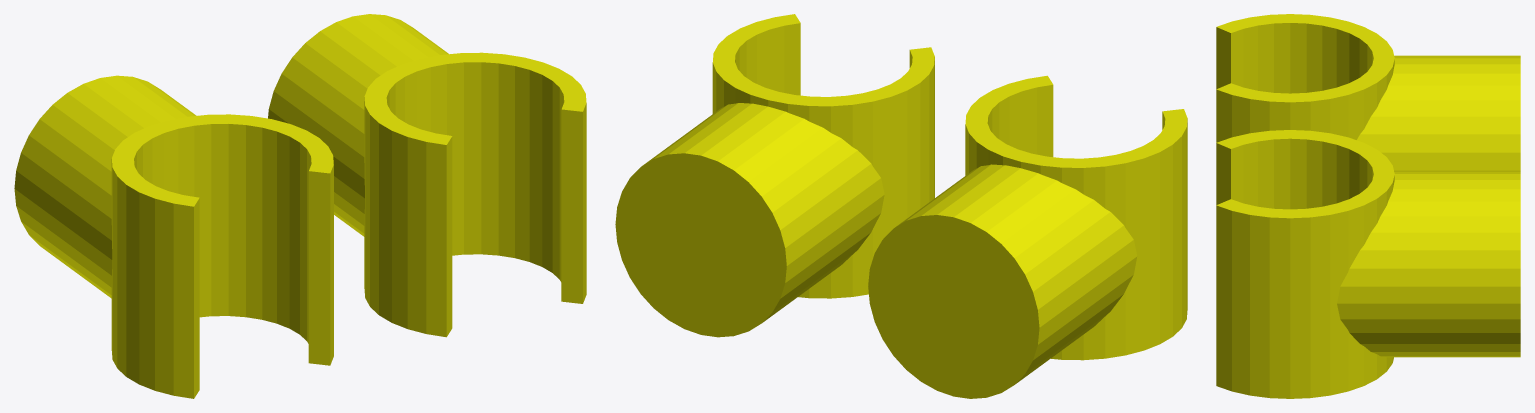
The model's file is LegoTestHands.fbx.
3 views of the same model, side by side, from view 1: azimuth 30°, elevation 25°; view 2: azimuth 150°, elevation 25°; view 3: azimuth 270°, elevation 25° (orthographic). The views are drawn at different scales.
Parts seen in each view (by area): view 1: RightHand, LeftHand; view 2: RightHand, LeftHand; view 3: LeftHand, RightHand.
Part boxes in pixels (<box>): RightHand: <box>14,75,333,398</box>; LeftHand: <box>268,14,586,337</box>; RightHand: <box>868,75,1187,398</box>; LeftHand: <box>615,14,934,337</box>; LeftHand: <box>1216,130,1520,398</box>; RightHand: <box>1216,14,1520,171</box>.
Bounding box in the file's own units: 520 × 214 × 327.
